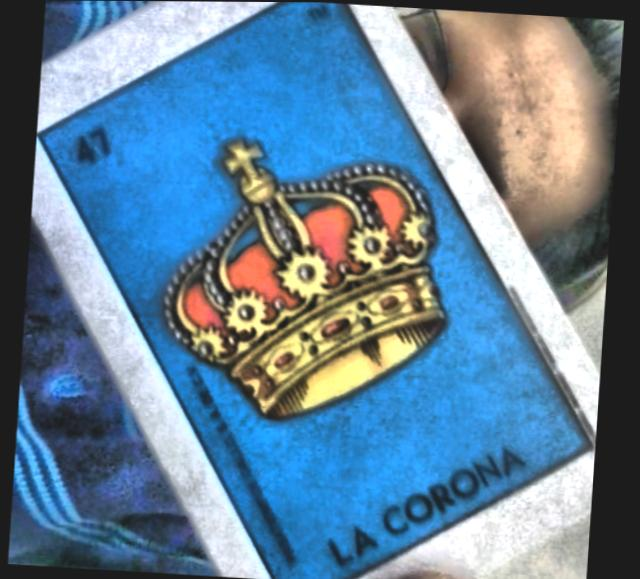La Corona: (38, 2, 597, 579)
